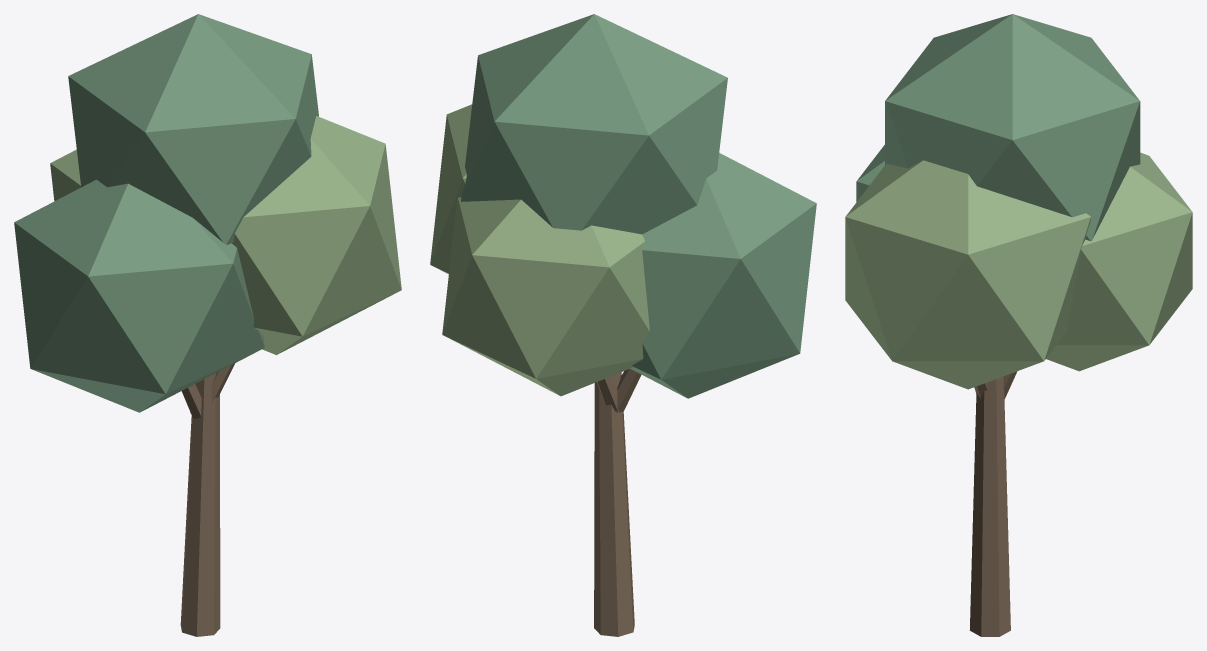
Rendered from tree-broad.glb.
3 renders of one model, left to right at view 1: azimuth 30°, elevation 25°; view 2: azimuth 150°, elevation 25°; view 3: azimuth 270°, elevation 25°, orthographic. The views are drawn at different scales.
Parts seen in each view (by area): view 1: CITY_tree_broad; view 2: CITY_tree_broad; view 3: CITY_tree_broad.
Part boxes in pixels (x1,y1,x2,y2): CITY_tree_broad: [14, 14, 401, 636]; CITY_tree_broad: [430, 14, 816, 636]; CITY_tree_broad: [845, 14, 1192, 636].
Bounding box in the file's own units: 3.73 × 6.15 × 3.13.
